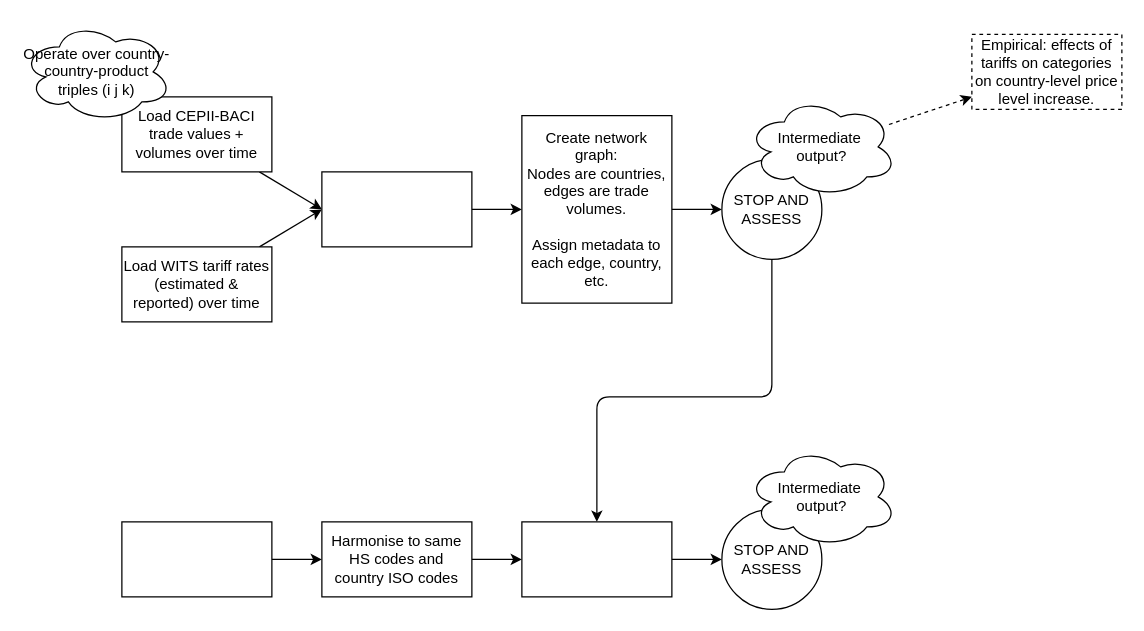
Image size: 1144x631. Some labels were removed from this diagram. The shapes that lost their labels are listed below. From the top down, each one's centre as x and y in pixels, then its label:
[396,209]: Harmonise to use same HS codes and country ISO codes
[196,559]: Load OECD inter-country I/O tables
[596,559]: Implement propagation logic within nodes
